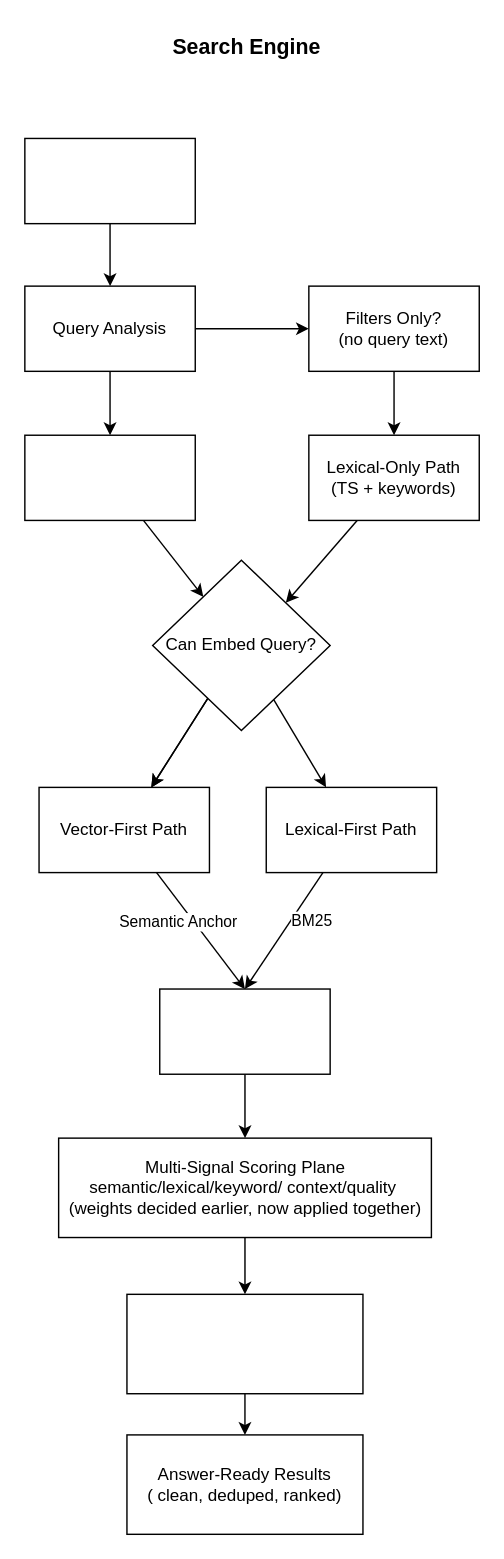
Some shapes in this 504 by 1559 pixel diagram are drawn without their labels. Each missing label, with the centre of its shape:
Auto Weight Profile (semantic / lexical/ balanced): pixel 109 477
Candidate Pool (N ≈ 200): pixel 244 1031
Ranking + Truncation (strongest evidence survives): pixel 244 1343
User Query (text + filters?): pixel 109 180
